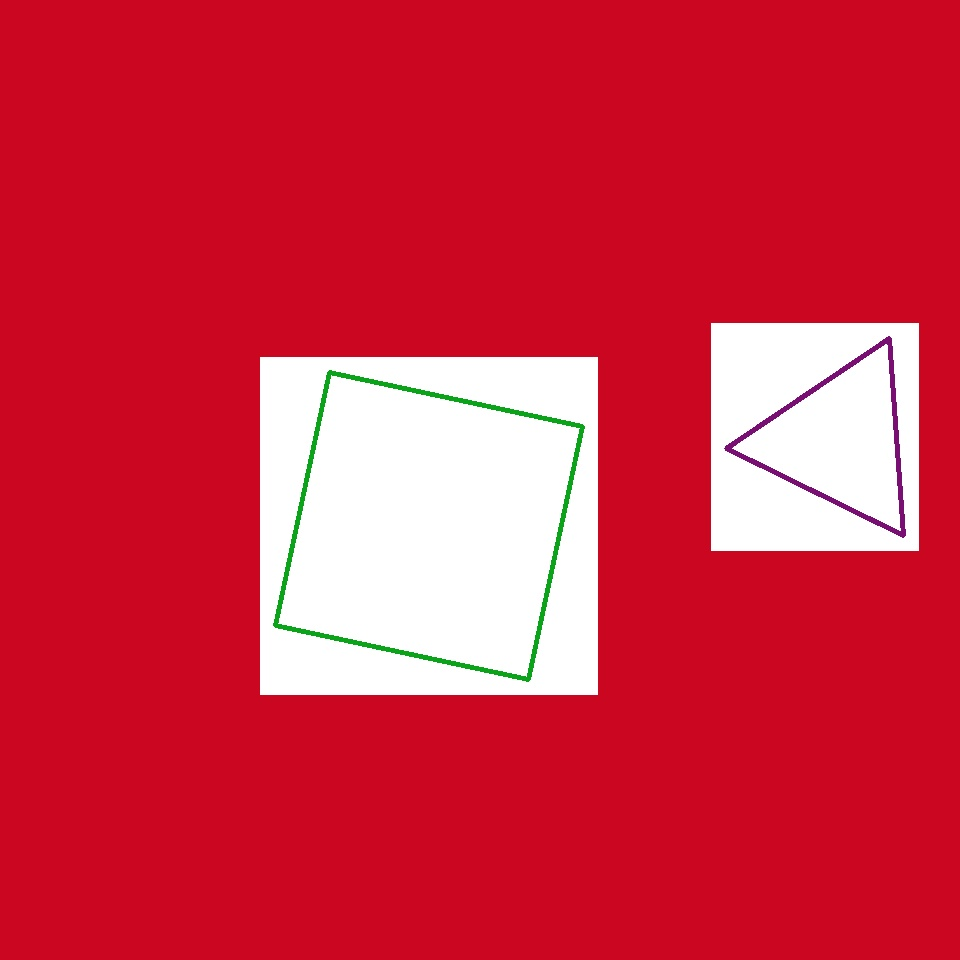circle: (752, 342, 928, 540)
square: (276, 373, 582, 680)
triangle: (96, 170, 408, 480), (413, 534, 592, 714), (342, 354, 470, 484)
